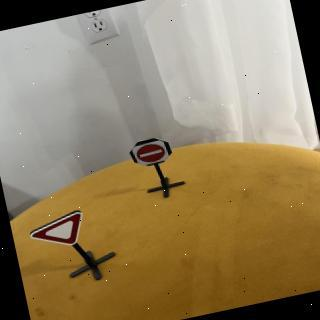sign_noentry: (131, 138, 172, 170)
sign_yield: (27, 210, 95, 255)
